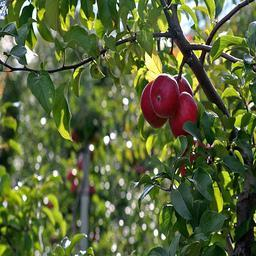apple: (140, 81, 167, 128), (151, 75, 178, 116), (170, 92, 197, 133)
